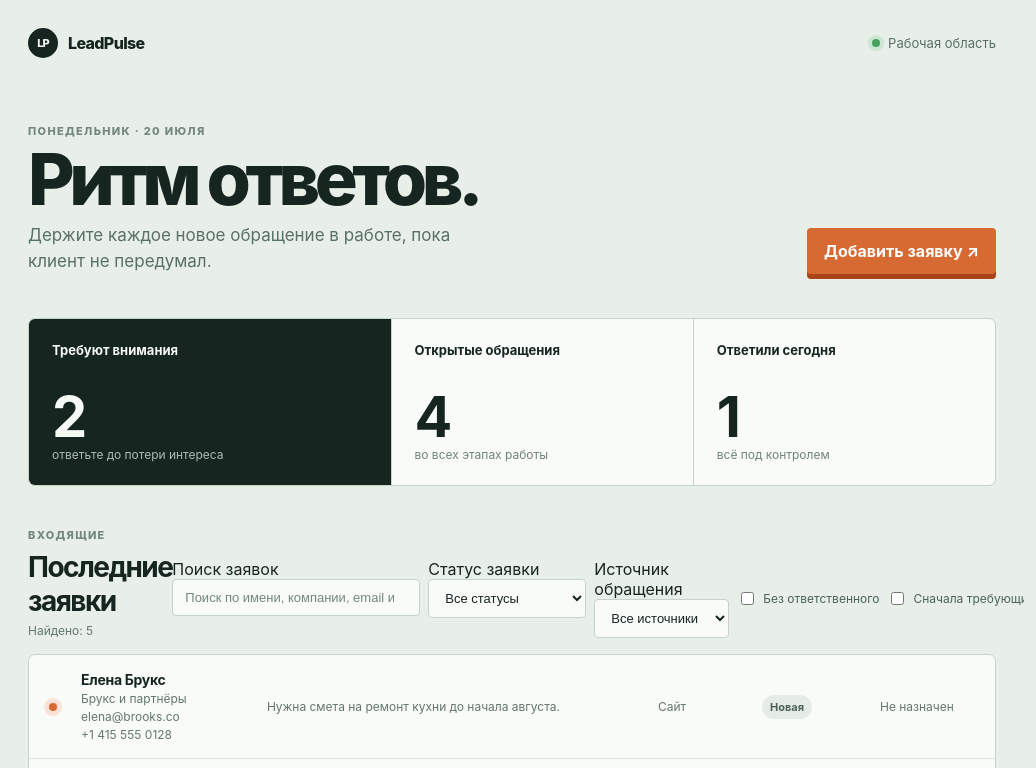
Test: filters leads by email
Type "amina@cedarhouse.com" into the search field.
click(296, 598); type("amina@cedarhouse.com")  # box [172,579,420,616]
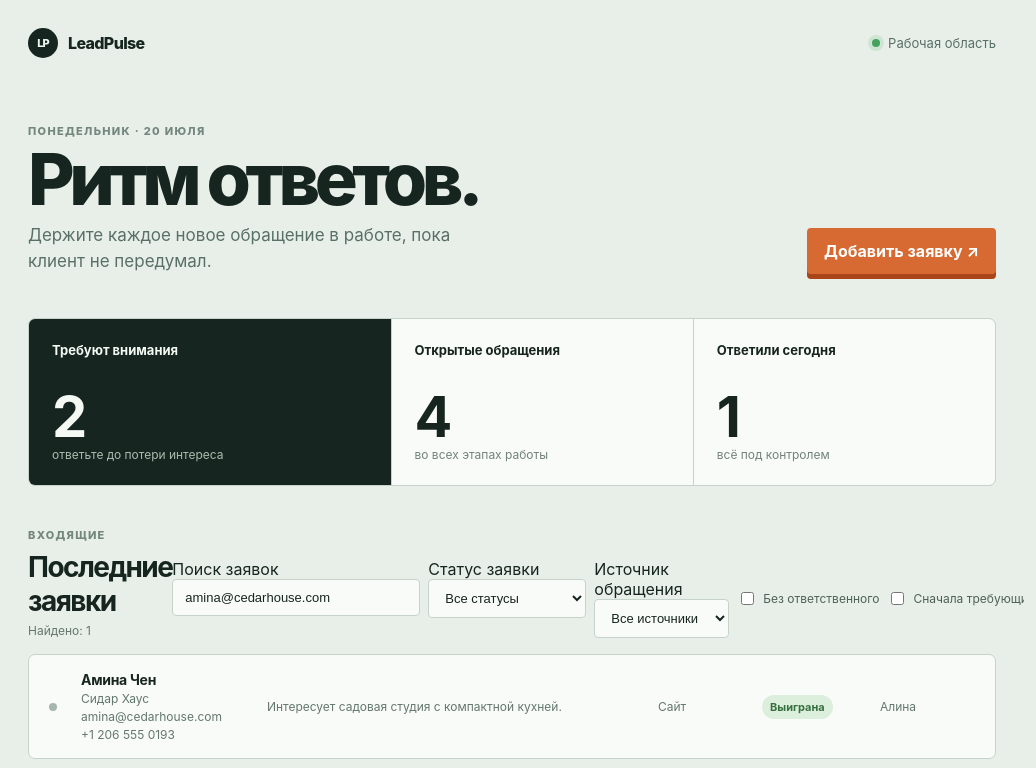
Expected: the text "Амина Чен" is shown, [81,671,156,688]
Now the text "Елена Брукс" is gone
